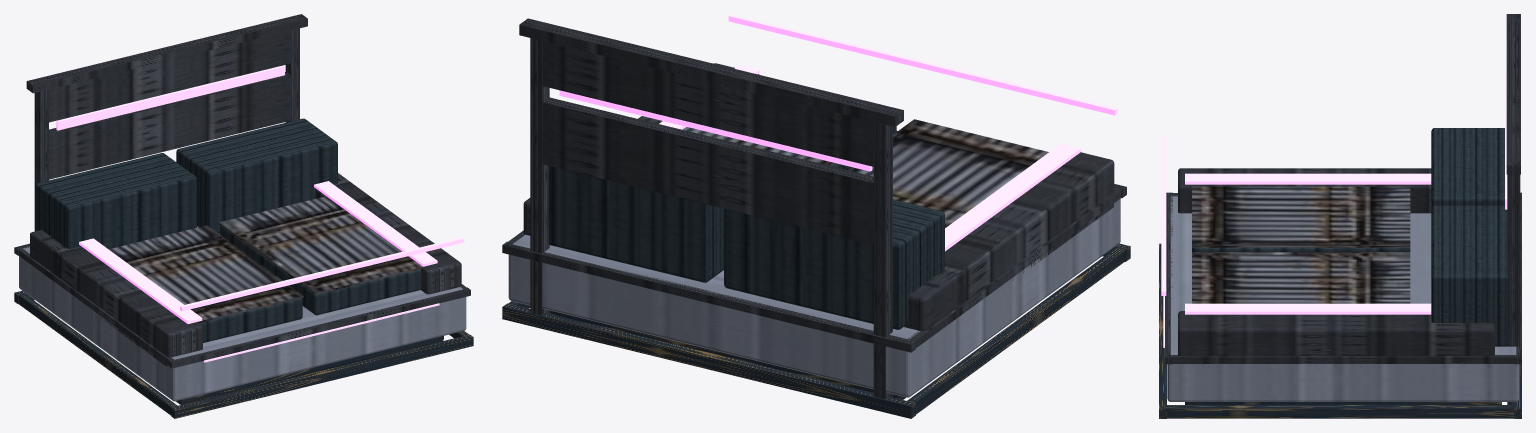
File: fun_sofa.glb
The picture shows the model from 3 angles, left to right: view 1: azimuth 30°, elevation 25°; view 2: azimuth 150°, elevation 25°; view 3: azimuth 270°, elevation 25°; orthographic projection. The views are drawn at different scales.
Visible parts, largest first — view 1: sight_shell, base, backc0, backc1, pipe1, pipe0, arm0, shelltoe0, cushion1, arm2, shellrim0, sightglow (+8 smaller); view 2: sight_shell, base, backc0, backc1, arm0, pipe0, shelltoe2, shellrim2, shelltoes0, strip, armglow0, shellrims0 (+3 smaller); view 3: base, pipe0, arm2, pipe1, backc1, backc0, shelltoes2, sight_shell, arm0, armglow0, armglow2, shellrims2 (+6 smaller).
Boxes of the visible parts, bbox=[...] form: sight_shell: bbox=[26, 14, 307, 230]; base: bbox=[19, 226, 466, 401]; backc0: bbox=[35, 153, 196, 249]; backc1: bbox=[176, 118, 337, 233]; pipe1: bbox=[219, 196, 421, 294]; pipe0: bbox=[109, 225, 303, 323]; arm0: bbox=[30, 230, 202, 366]; shelltoe0: bbox=[171, 335, 473, 418]; cushion1: bbox=[220, 226, 421, 315]; arm2: bbox=[315, 173, 461, 294]; shellrim0: bbox=[168, 287, 470, 368]; sightglow: bbox=[56, 65, 284, 130]; sight_shell: bbox=[519, 18, 903, 399]; base: bbox=[508, 199, 1120, 397]; backc0: bbox=[724, 199, 944, 329]; backc1: bbox=[548, 166, 723, 282]; arm0: bbox=[904, 152, 1114, 331]; pipe0: bbox=[846, 119, 1048, 227]; shelltoe2: bbox=[502, 303, 915, 418]; shellrim2: bbox=[502, 241, 915, 352]; shelltoes0: bbox=[907, 247, 1124, 414]; strip: bbox=[728, 14, 1117, 115]; armglow0: bbox=[945, 143, 1081, 251]; shellrims0: bbox=[907, 187, 1121, 347]; base: bbox=[1167, 196, 1519, 401]; pipe0: bbox=[1192, 186, 1410, 247]; arm2: bbox=[1178, 311, 1494, 367]; pipe1: bbox=[1192, 252, 1410, 303]; backc1: bbox=[1431, 205, 1508, 346]; backc0: bbox=[1431, 128, 1504, 208]; shelltoes2: bbox=[1164, 405, 1516, 418]; sight_shell: bbox=[1506, 14, 1520, 404]; arm0: bbox=[1178, 168, 1431, 213]; armglow0: bbox=[1185, 173, 1431, 184]; armglow2: bbox=[1185, 303, 1431, 314]; shellrims2: bbox=[1173, 355, 1513, 363].
Bounding box in the file's own units: 2.44 × 1.7 × 2.27.
Materials: 8 (6 with a texture image).
